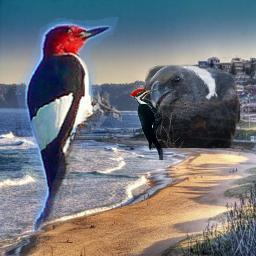Crow: (140, 64, 240, 148)
Woodpecker: (7, 10, 122, 233), (130, 87, 173, 160)
